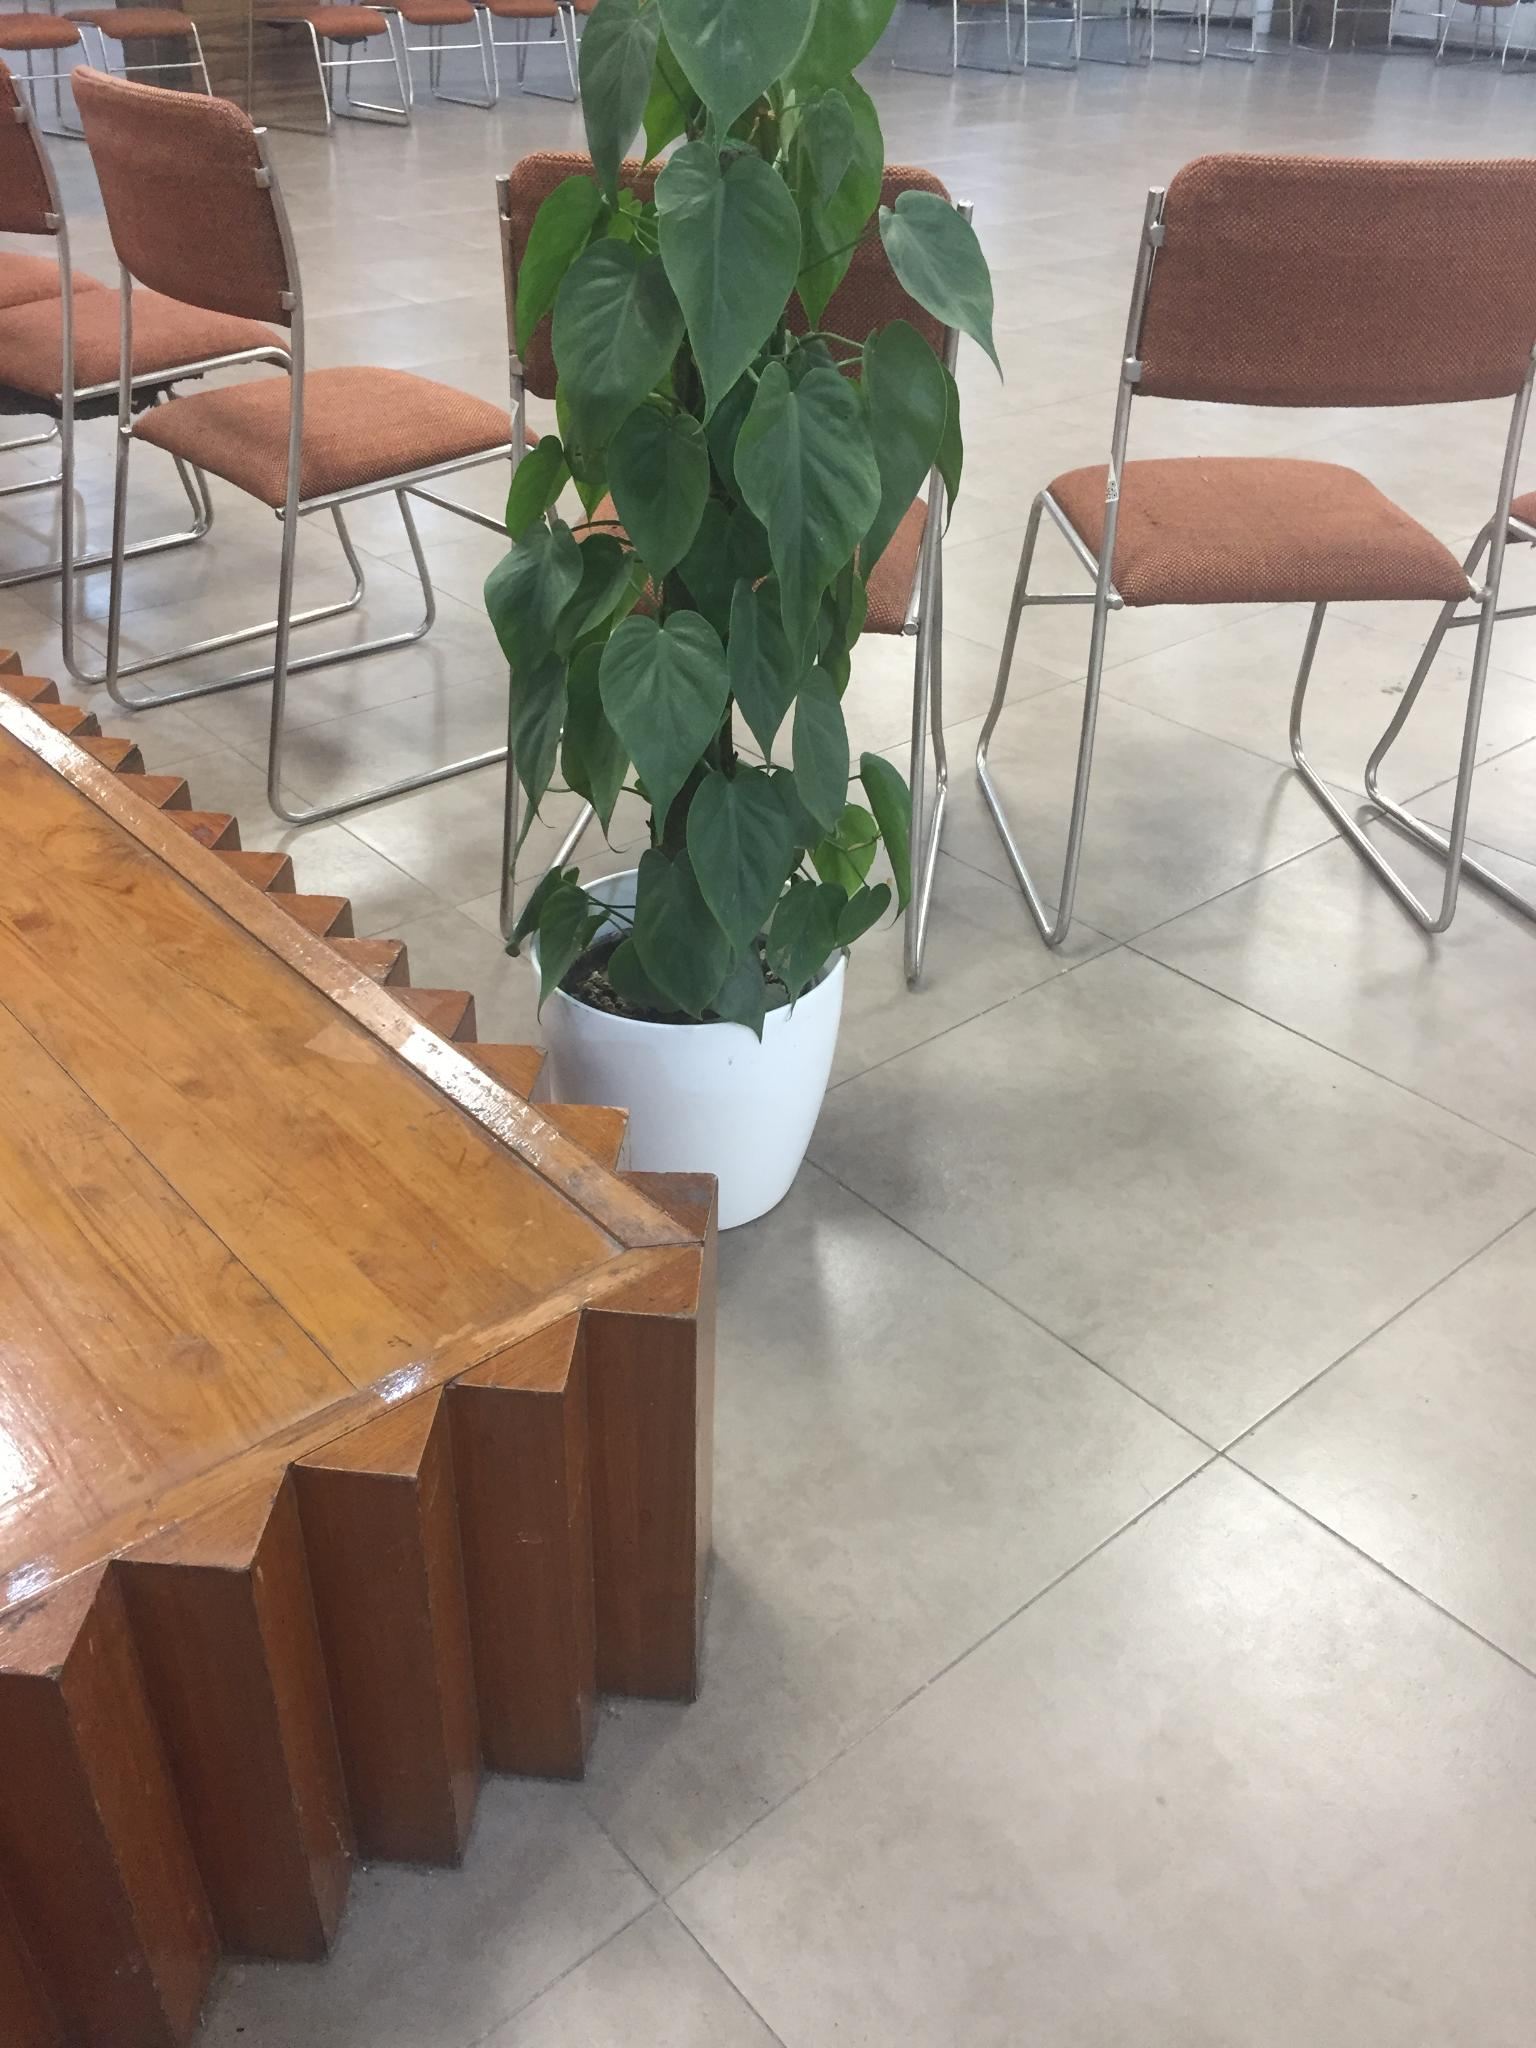chair: (975, 152, 1533, 948), (494, 153, 968, 990), (69, 61, 539, 830), (0, 60, 297, 682), (95, 6, 234, 161), (282, 3, 399, 132), (384, 13, 505, 106), (487, 3, 578, 106), (6, 16, 73, 135), (565, 3, 632, 89)
